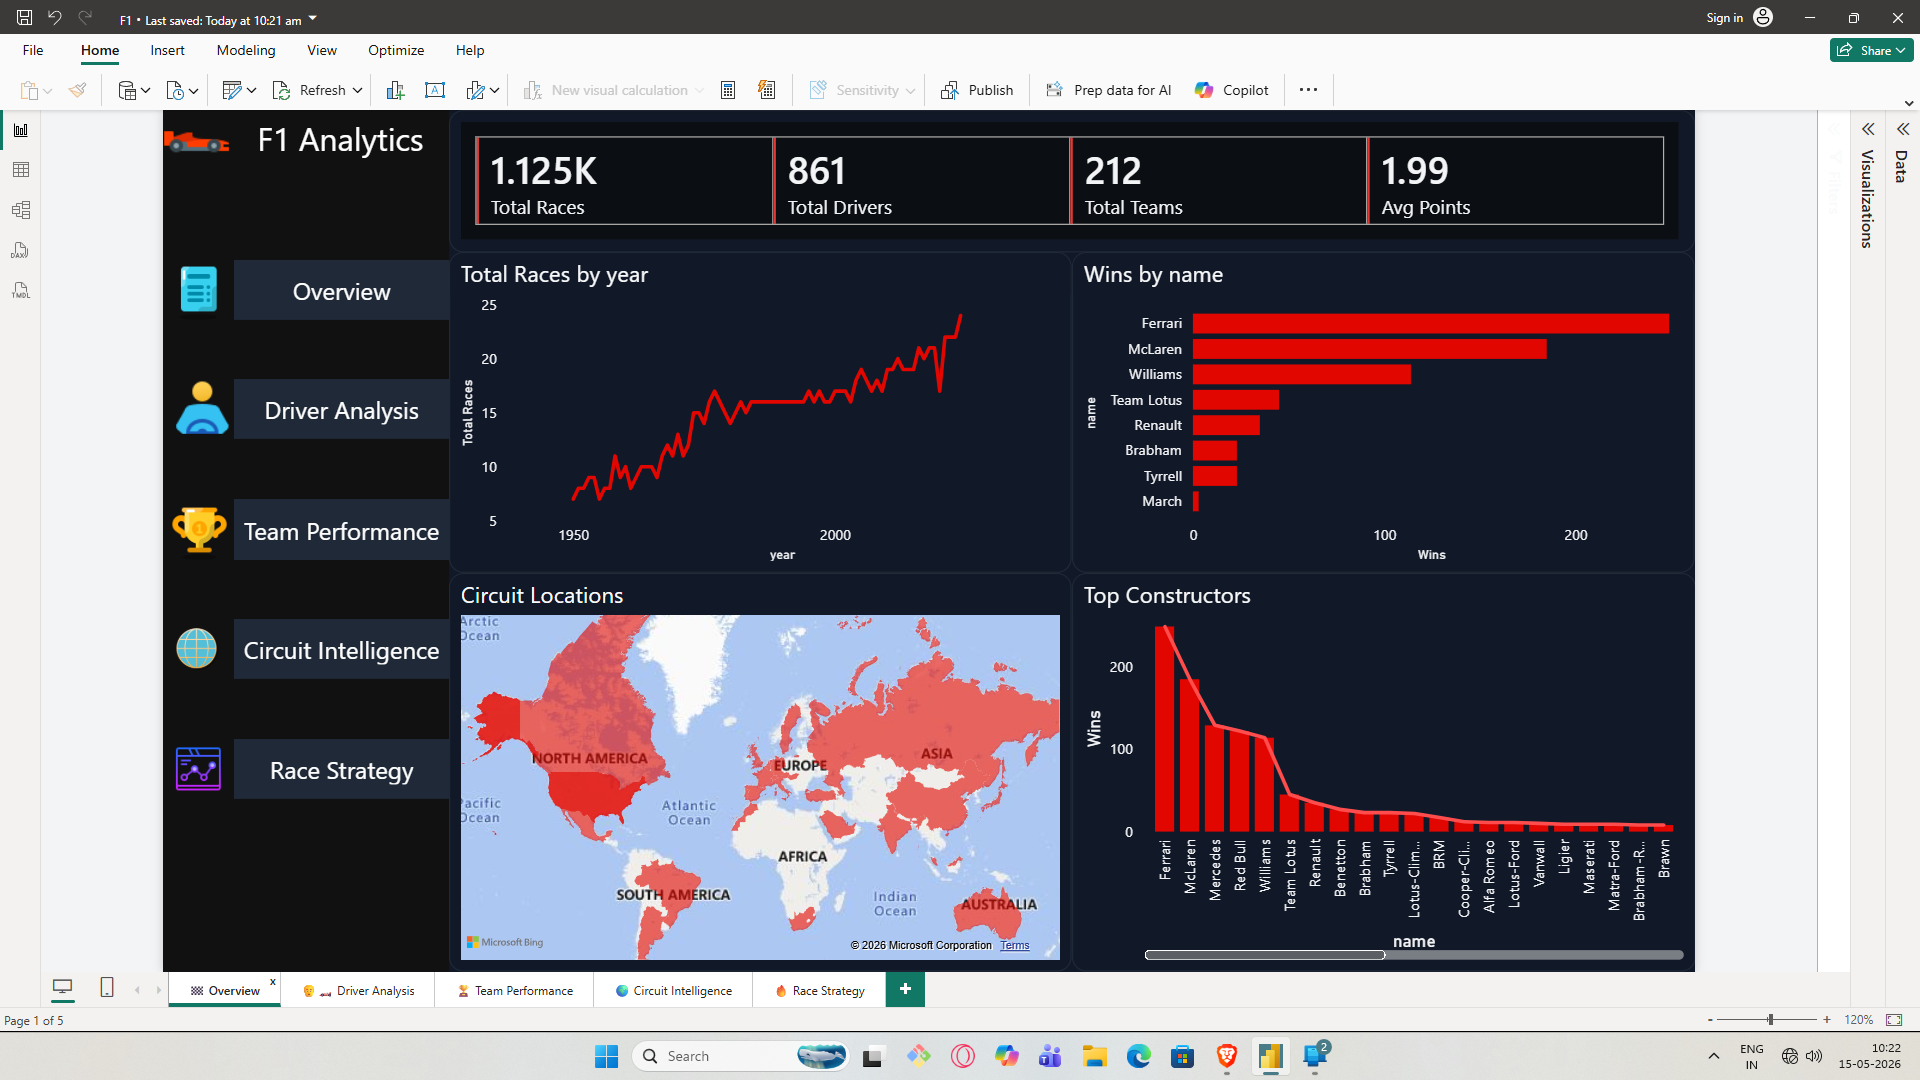

The dashboard page shown, as its layout file describes it:
{"tool":"powerbi","page":{"name":"🏁 Overview","canvas":[1280,720],"ordinal":0},"visuals":[{"type":"shape","box":[0,0,239.3,719.8],"z":0},{"type":"textbox","box":[56.4,0,182.9,74.9],"z":1000},{"type":"actionButton","box":[59.3,125.5,179.9,49.6],"z":2000},{"type":"actionButton","box":[59.3,225,179.9,49.6],"z":3000},{"type":"actionButton","box":[59.3,324.9,179.9,50.6],"z":4000},{"type":"actionButton","box":[59.3,425,179.9,49.6],"z":5000},{"type":"actionButton","box":[59.3,525.2,179.9,49.6],"z":6000},{"type":"image","box":[2.9,324.9,56.4,50.6],"z":7000},{"type":"image","box":[0,125.5,59.3,49.6],"z":8000},{"type":"image","box":[5.8,224.7,53.5,49.6],"z":9000},{"type":"image","box":[0,428,56.4,43.8],"z":10000},{"type":"image","box":[2.9,525.2,53.5,49.6],"z":11000},{"type":"image","box":[0,0,56.4,53.5],"z":12000},{"type":"cardVisual","fields":{"Data":["races.Total Races","drivers.Total Drivers","constructors.Total Teams","results.Avg Points"]},"box":[239.3,0,1040.7,118.7],"z":13000},{"type":"lineChart","fields":{"Y":["races.Total Races"],"Category":["races.year"]},"box":[239.3,118.7,520.4,268.4],"z":14000},{"type":"clusteredBarChart","fields":{"Category":["constructors.name"],"Y":["circuits.Wins"]},"box":[759.6,118.7,520.4,268.4],"z":15000},{"type":"filledMap","title":"Circuit Locations","fields":{"Category":["circuits.country"]},"box":[239,387,520,333],"z":16000},{"type":"lineClusteredColumnComboChart","title":"Top Constructors","fields":{"Category":["constructors.name"],"Y":["circuits.Wins"],"Y2":["circuits.Wins"]},"box":[759,387,521,333],"z":17000}]}

Visuals, with their boxes on the page's 1280x720 design canvas (x1, y1, x2, y2). These are canvas units, not pixel positions in the 1920x1080 screenshot, which may show the page scaled, cropped or inside an application window:
shape: (x1=0, y1=0, x2=239, y2=720)
textbox: (x1=56, y1=0, x2=239, y2=75)
actionButton: (x1=59, y1=126, x2=239, y2=175)
actionButton: (x1=59, y1=225, x2=239, y2=275)
actionButton: (x1=59, y1=325, x2=239, y2=376)
actionButton: (x1=59, y1=425, x2=239, y2=475)
actionButton: (x1=59, y1=525, x2=239, y2=575)
image: (x1=3, y1=325, x2=59, y2=376)
image: (x1=0, y1=126, x2=59, y2=175)
image: (x1=6, y1=225, x2=59, y2=274)
image: (x1=0, y1=428, x2=56, y2=472)
image: (x1=3, y1=525, x2=56, y2=575)
image: (x1=0, y1=0, x2=56, y2=54)
cardVisual - races.Total Races x drivers.Total Drivers: (x1=239, y1=0, x2=1280, y2=119)
lineChart - races.Total Races x races.year: (x1=239, y1=119, x2=760, y2=387)
clusteredBarChart - constructors.name x circuits.Wins: (x1=760, y1=119, x2=1280, y2=387)
"Circuit Locations" filledMap: (x1=239, y1=387, x2=759, y2=720)
"Top Constructors" lineClusteredColumnComboChart: (x1=759, y1=387, x2=1280, y2=720)
